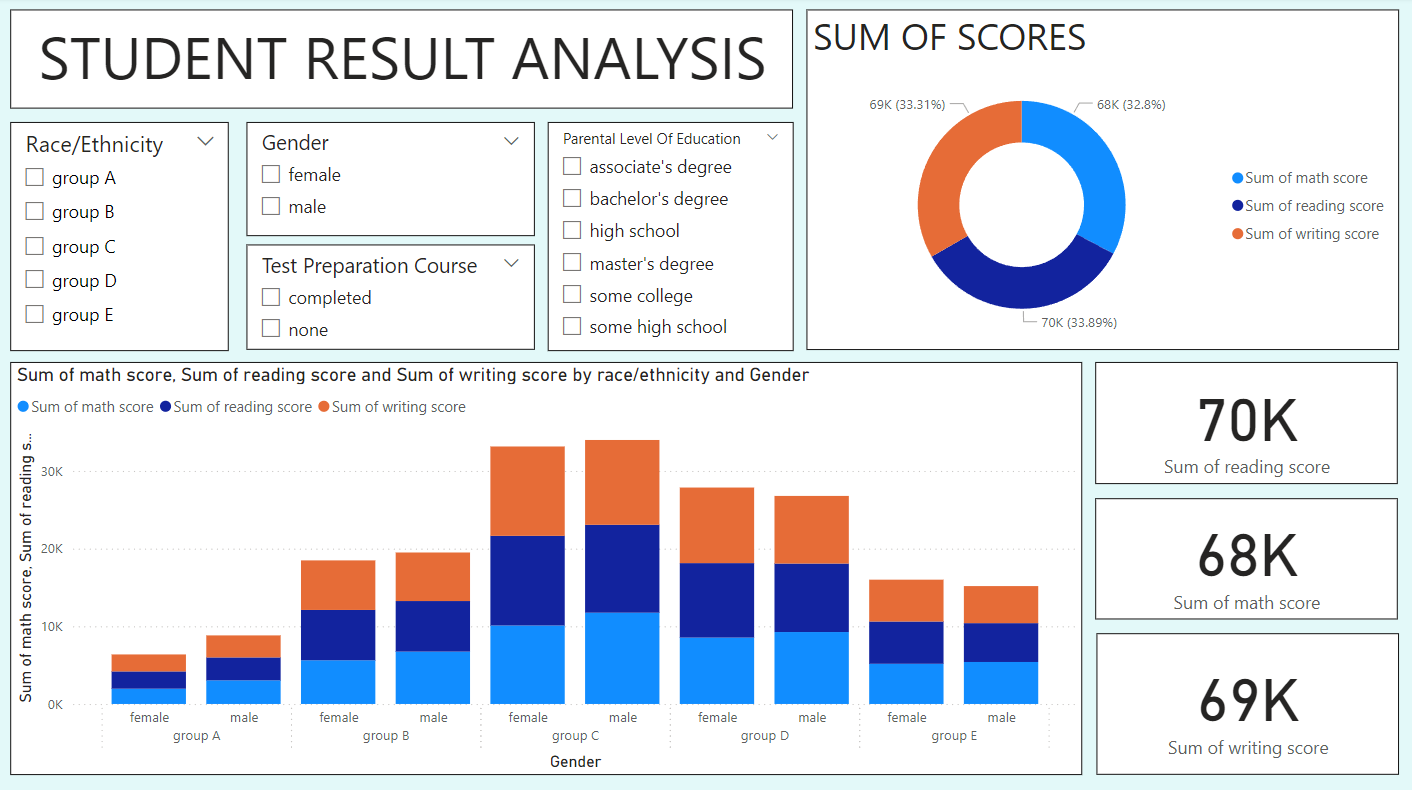

This screenshot's page, from the dashboard's own definition file:
{"tool":"powerbi","page":{"name":"Page 1","canvas":[1280,720],"ordinal":0},"visuals":[{"type":"lineStackedColumnComboChart","fields":{"Category":["exams (2) (1).race/ethnicity","exams (2) (1).Gender"],"Y":["Sum(exams (2) (1).math score)","Sum(exams (2) (1).reading score)","Sum(exams (2) (1).writing score)"]},"box":[10.5,330.2,969.8,373.3],"z":0},{"type":"donutChart","title":"       SUM OF SCORES","fields":{"Y":["Sum(exams (2) (1).math score)","Sum(exams (2) (1).reading score)","Sum(exams (2) (1).writing score)"]},"box":[730.2,11.6,536,308.1],"z":1000},{"type":"textbox","box":[10.5,11.6,708.1,89.5],"z":2000},{"type":"slicer","fields":{"Values":["exams (2) (1).race/ethnicity"]},"box":[10.5,112.8,197.7,207],"z":3000},{"type":"slicer","fields":{"Values":["exams (2) (1).Gender"]},"box":[224.4,112.8,260.5,103.5],"z":4000},{"type":"slicer","fields":{"Values":["exams (2) (1).test preparation course"]},"box":[224.4,224.4,260.5,95.3],"z":5000},{"type":"card","fields":{"Values":["Sum(exams (2) (1).reading score)"]},"box":[991.9,330.2,273.3,110.5],"z":6000},{"type":"card","fields":{"Values":["Sum(exams (2) (1).math score)"]},"box":[991.9,453.5,273.3,109.3],"z":7000},{"type":"card","fields":{"Values":["Sum(exams (2) (1).writing score)"]},"box":[993,575.6,273.3,127.9],"z":8000},{"type":"slicer","fields":{"Values":["exams (2) (1).parental level of education"]},"box":[496.5,112.8,222.1,207],"z":9000}]}

Visuals, with their boxes in screenshot pixels (x1, y1, x2, y2), scaled from the page's 1280x720 canvas onto the 1412x790 screenshot:
lineStackedColumnComboChart - exams (2) (1).race/ethnicity x exams (2) (1).Gender: (x1=12, y1=362, x2=1081, y2=772)
"       SUM OF SCORES" donutChart: (x1=806, y1=13, x2=1397, y2=351)
textbox: (x1=12, y1=13, x2=793, y2=111)
slicer - exams (2) (1).race/ethnicity: (x1=12, y1=124, x2=230, y2=351)
slicer - exams (2) (1).Gender: (x1=248, y1=124, x2=535, y2=237)
slicer - exams (2) (1).test preparation course: (x1=248, y1=246, x2=535, y2=351)
card - Sum(exams (2) (1).reading score): (x1=1094, y1=362, x2=1396, y2=484)
card - Sum(exams (2) (1).math score): (x1=1094, y1=498, x2=1396, y2=618)
card - Sum(exams (2) (1).writing score): (x1=1095, y1=632, x2=1397, y2=772)
slicer - exams (2) (1).parental level of education: (x1=548, y1=124, x2=793, y2=351)
